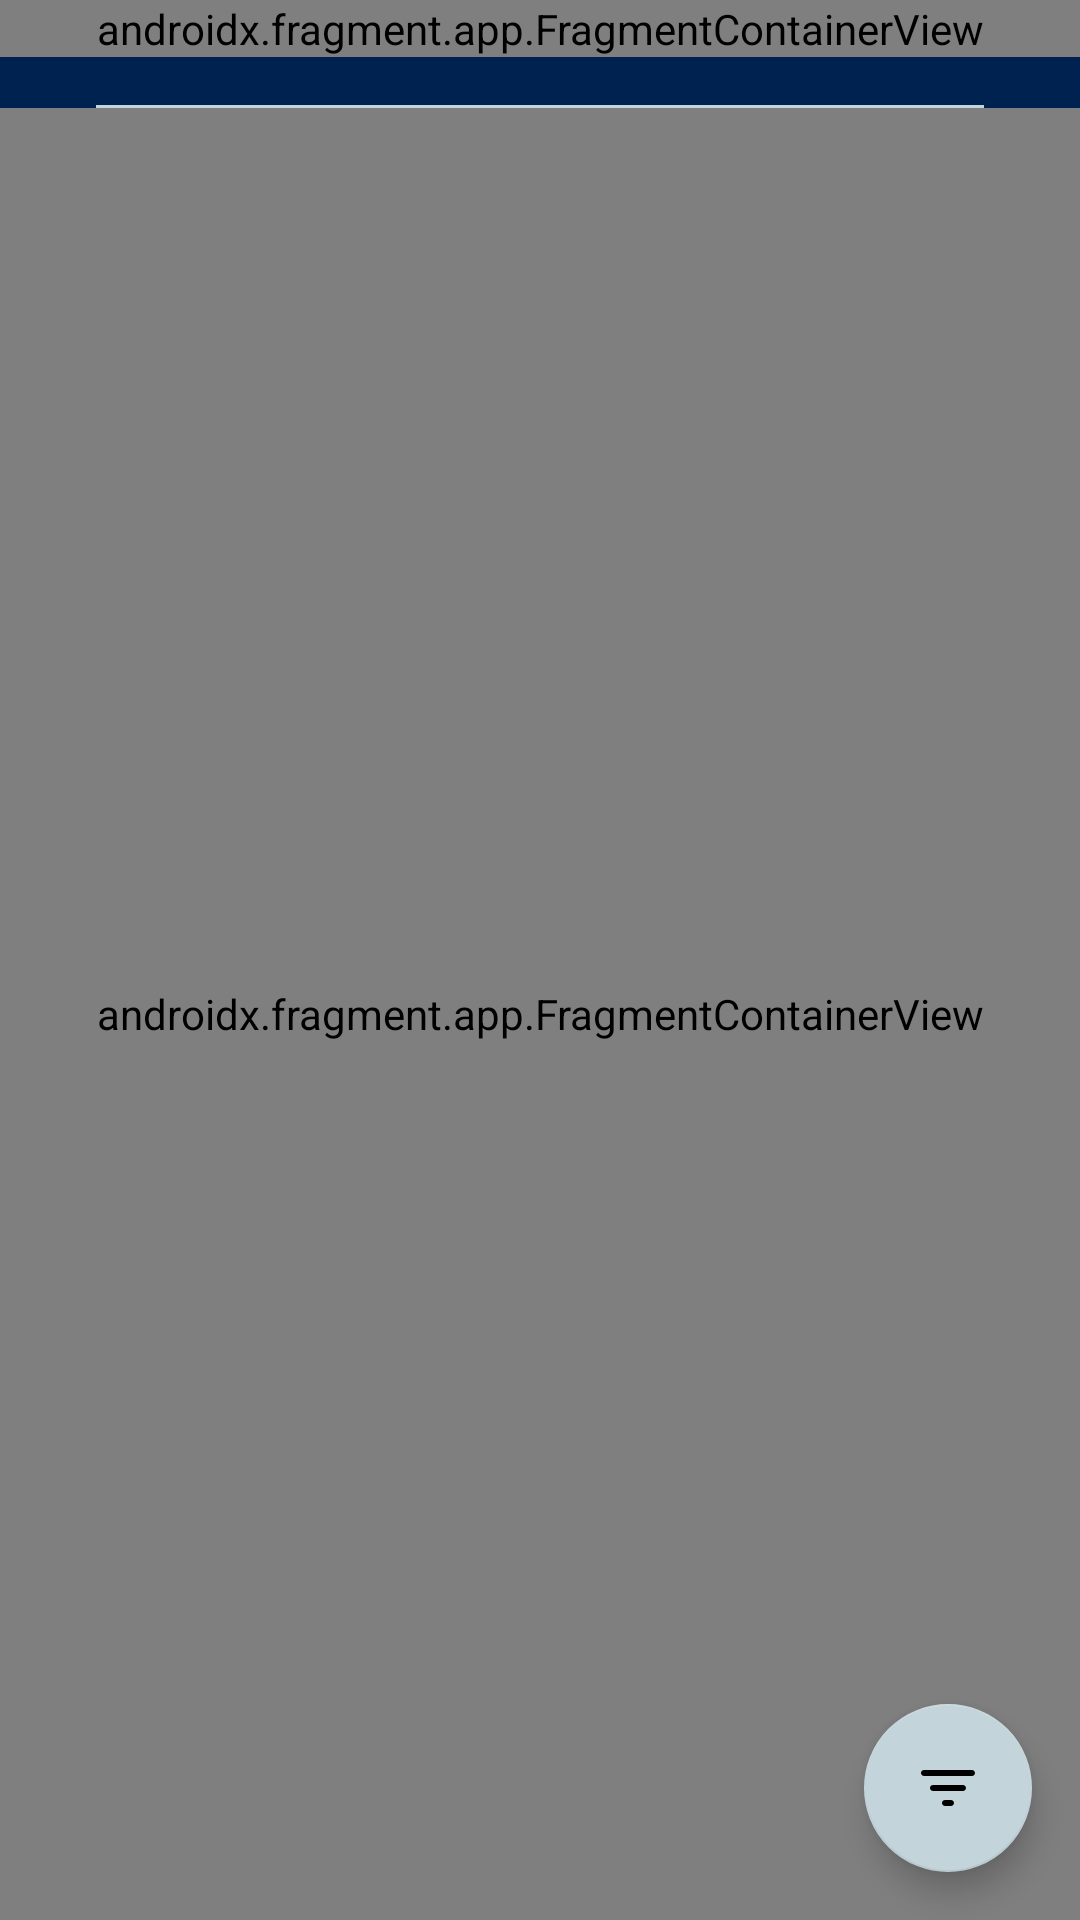

Icons on this 1080 × 1920 Android screen, each with its box as bbox(x1, y1, x2, y2):
filter list: bbox(864, 1704, 1032, 1872)
